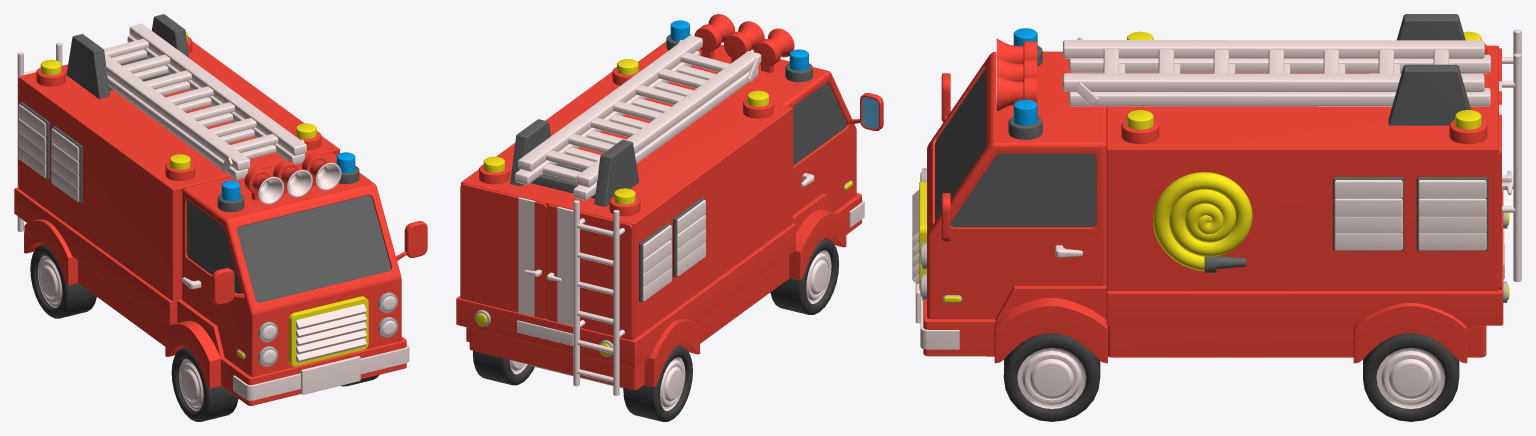
The model's file is Public_11_Fire_Truck_1.glb.
3 views of the same model, side by side, from view 1: azimuth 30°, elevation 25°; view 2: azimuth 150°, elevation 25°; view 3: azimuth 270°, elevation 25° (orthographic). The views are drawn at different scales.
Parts seen in each view (by area): view 1: Public_11_Fire_Truck_1; view 2: Public_11_Fire_Truck_1; view 3: Public_11_Fire_Truck_1.
Boxes of the visible parts, x1,y1,x2,y2 form: Public_11_Fire_Truck_1: (14,14,427,421); Public_11_Fire_Truck_1: (456,14,883,421); Public_11_Fire_Truck_1: (912,14,1521,421).
Size of the model in its own units: 3.17 by 3.64 by 6.16.
Materials: 1 (1 with a texture image).
